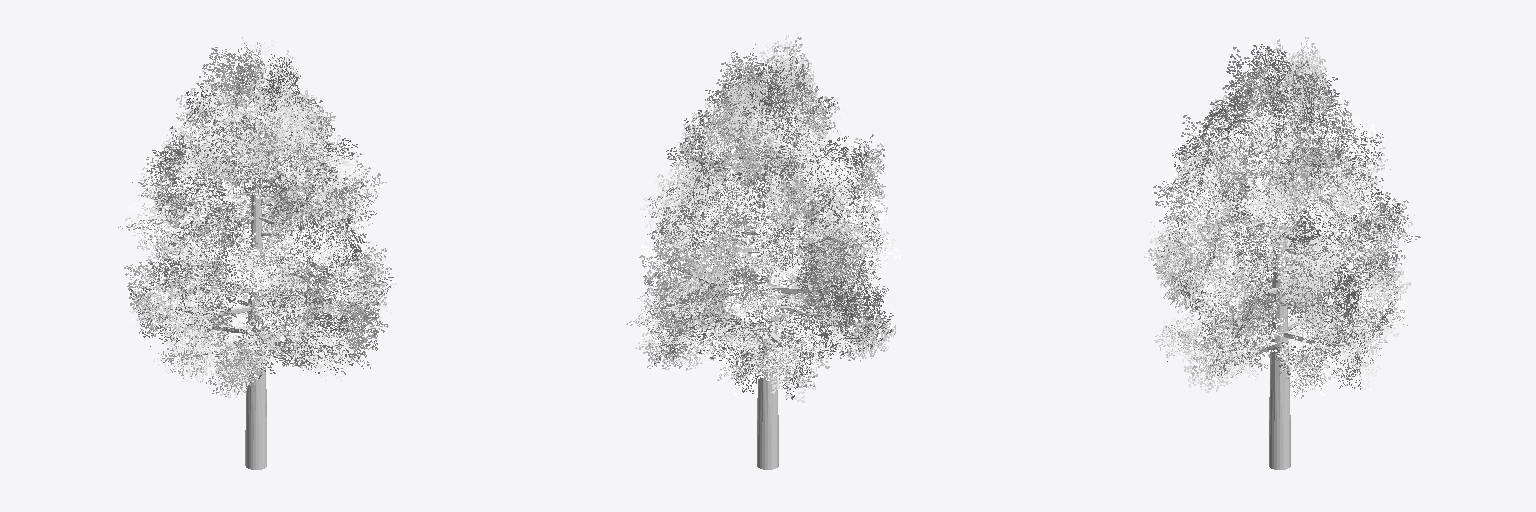
3 renders of one model, left to right at view 1: azimuth 30°, elevation 25°; view 2: azimuth 150°, elevation 25°; view 3: azimuth 270°, elevation 25°, orthographic.
Parts seen in each view (by area): view 1: Foliage__leafcard, Bark; view 2: Foliage__leafcard, Bark; view 3: Foliage__leafcard, Bark.
Part boxes in pixels (bbox=[...]): Foliage__leafcard: bbox=[118, 37, 396, 399]; Bark: bbox=[162, 78, 359, 469]; Foliage__leafcard: bbox=[626, 35, 900, 402]; Bark: bbox=[668, 75, 869, 469]; Foliage__leafcard: bbox=[1144, 37, 1420, 398]; Bark: bbox=[1192, 70, 1383, 469].
Bounding box in the file's own units: 12.23 × 20 × 12.44.
2 materials, 2 textured.